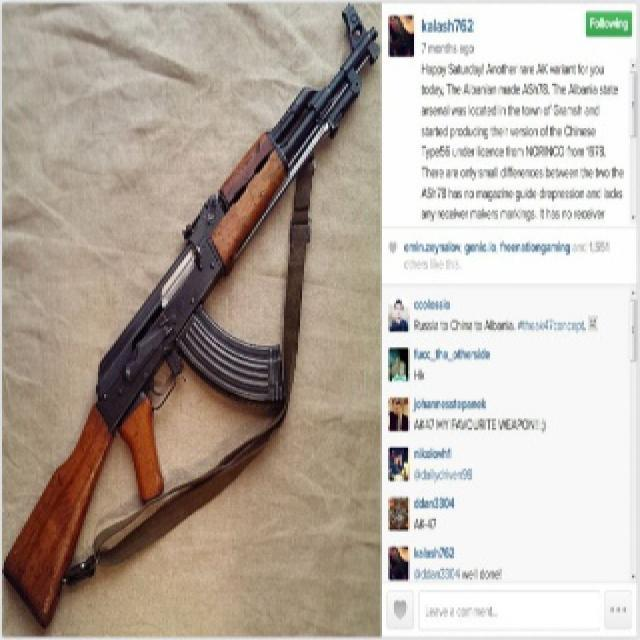weapon: (0, 8, 376, 634)
